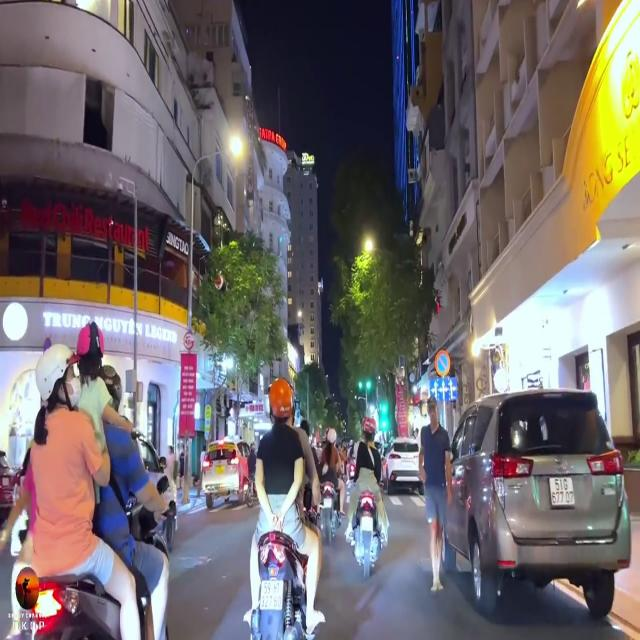bien_trang: (548, 473, 576, 506)
